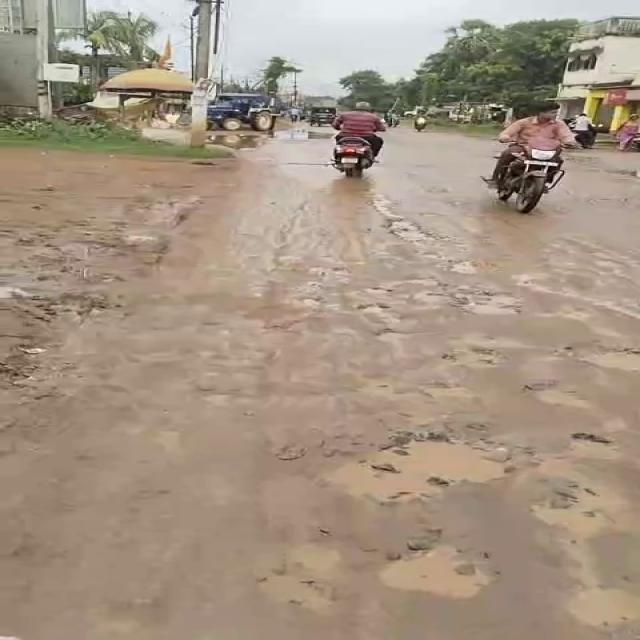pothole: (330, 441, 508, 497), (375, 538, 489, 600), (238, 568, 337, 620), (538, 484, 624, 534), (558, 584, 640, 633), (462, 286, 530, 322), (528, 384, 602, 416), (282, 544, 352, 576), (550, 537, 599, 582), (571, 347, 640, 374), (190, 344, 270, 367), (443, 346, 506, 374), (383, 219, 438, 250), (344, 383, 436, 400), (147, 426, 190, 461), (522, 272, 582, 296), (572, 431, 619, 460), (583, 296, 639, 320), (458, 332, 527, 350), (407, 288, 458, 310), (438, 262, 496, 280), (368, 195, 402, 224), (290, 294, 343, 312), (372, 328, 419, 348), (306, 263, 359, 279), (596, 418, 640, 437), (538, 308, 599, 320), (588, 258, 632, 274), (542, 238, 576, 258), (267, 252, 309, 266), (395, 278, 444, 290), (358, 303, 396, 318), (202, 394, 232, 412), (410, 248, 450, 261), (360, 283, 390, 296), (222, 329, 244, 341), (246, 288, 268, 300)
